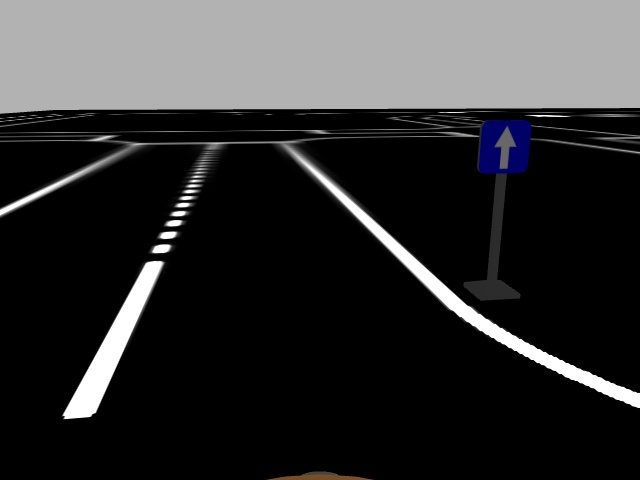oneway: (479, 118, 533, 176)
